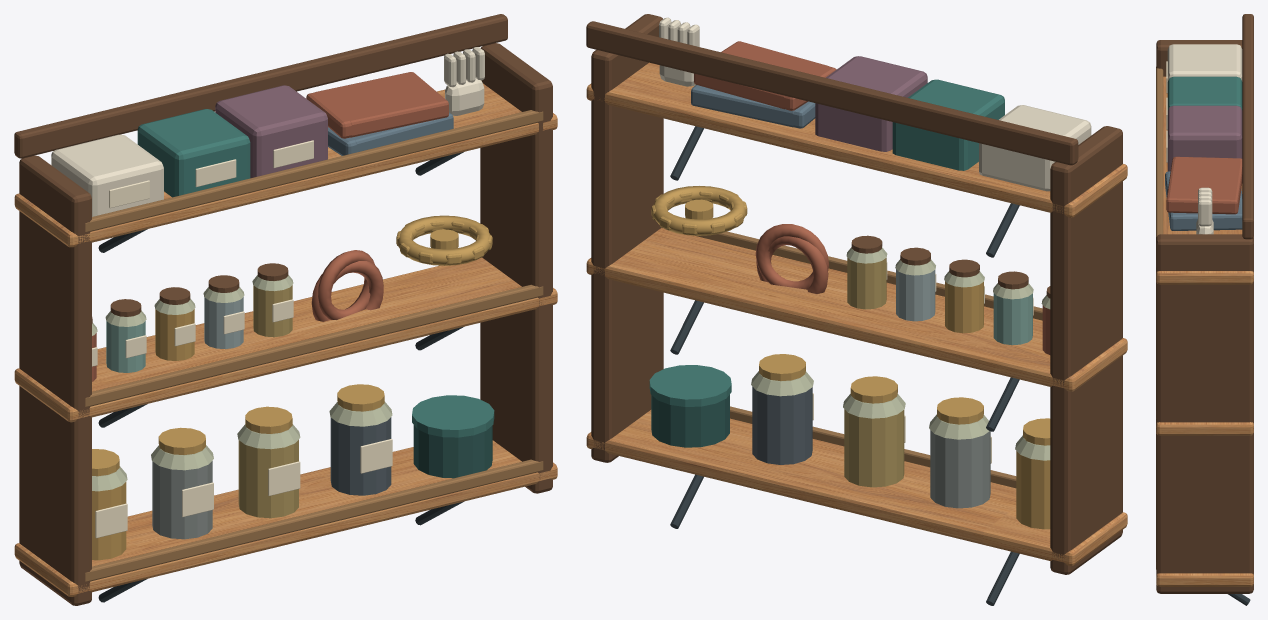
The picture shows the model from 3 angles, left to right: view 1: azimuth 30°, elevation 25°; view 2: azimuth 150°, elevation 25°; view 3: azimuth 270°, elevation 25°; orthographic projection. The views are drawn at different scales.
Visible parts, largest first — view 1: workshop_wood_dark, workshop_oak, workshop_wood, workshop_brass, workshop_teal, workshop_red, workshop_paper, workshop_cream, workshop_plum, workshop_glass, workshop_ochre, workshop_steel (+6 smaller); view 2: workshop_wood_dark, workshop_oak, workshop_brass, workshop_teal, workshop_red, workshop_ochre, workshop_cream, workshop_glass, workshop_plum, workshop_steel, workshop_steel_light, workshop_steel_dark (+5 smaller); view 3: workshop_wood_dark, workshop_oak, workshop_plum, workshop_red, workshop_cream, workshop_teal, workshop_wood, workshop_blue, workshop_paper.
Boxes of the visible parts, left/top/right/bottom form: workshop_wood_dark: left=14, top=14, right=552, bottom=605; workshop_oak: left=14, top=83, right=557, bottom=596; workshop_wood: left=85, top=110, right=543, bottom=581; workshop_brass: left=92, top=215, right=492, bottom=560; workshop_teal: left=137, top=109, right=494, bottom=437; workshop_red: left=92, top=72, right=448, bottom=381; workshop_paper: left=92, top=140, right=392, bottom=538; workshop_cream: left=51, top=47, right=484, bottom=216; workshop_plum: left=215, top=85, right=327, bottom=178; workshop_glass: left=92, top=275, right=392, bottom=491; workshop_ochre: left=238, top=285, right=298, bottom=518; workshop_steel: left=330, top=417, right=391, bottom=495; workshop_wood_dark: left=586, top=14, right=1122, bottom=574; workshop_oak: left=586, top=62, right=1127, bottom=565; workshop_brass: left=651, top=186, right=1050, bottom=529; workshop_teal: left=649, top=79, right=1004, bottom=406; workshop_red: left=694, top=41, right=1050, bottom=354; workshop_ochre: left=844, top=257, right=904, bottom=487; workshop_cream: left=659, top=17, right=1091, bottom=191; workshop_glass: left=751, top=247, right=1050, bottom=460; workshop_plum: left=815, top=56, right=927, bottom=151; workshop_steel: left=752, top=386, right=812, bottom=464; workshop_steel_light: left=930, top=430, right=990, bottom=508; workshop_steel_dark: left=670, top=126, right=1019, bottom=605; workshop_wood_dark: left=1156, top=14, right=1253, bottom=593; workshop_oak: left=1156, top=76, right=1253, bottom=586; workshop_plum: left=1167, top=105, right=1242, bottom=171; workshop_red: left=1166, top=156, right=1242, bottom=214; workshop_cream: left=1167, top=44, right=1242, bottom=234; workshop_teal: left=1167, top=76, right=1242, bottom=110; workshop_wood: left=1156, top=67, right=1163, bottom=569; workshop_blue: left=1165, top=171, right=1242, bottom=230; workshop_paper: left=1166, top=61, right=1167, bottom=162.
Bounding box in the file's own units: 1.7 × 1.62 × 0.3405.
19 materials, 1 textured.
